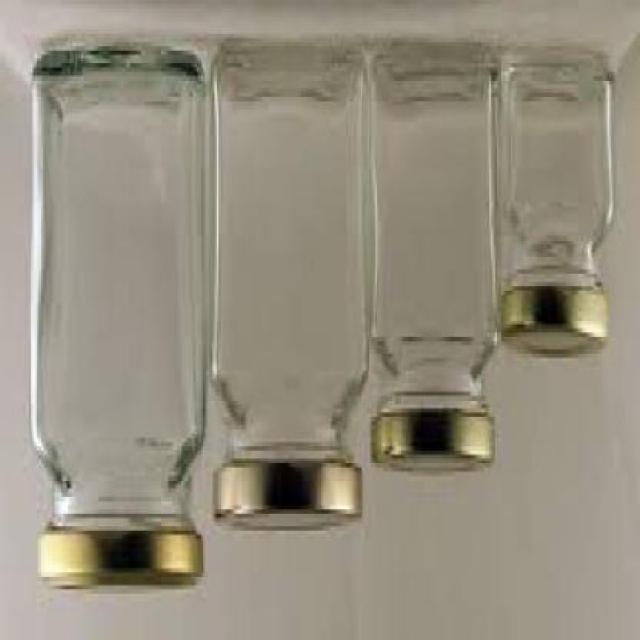GLASS: (35, 51, 213, 531), (213, 54, 373, 463), (369, 46, 502, 412), (500, 63, 614, 291)
METAL: (41, 526, 207, 589), (216, 467, 364, 535), (369, 412, 497, 476), (503, 295, 611, 362)
